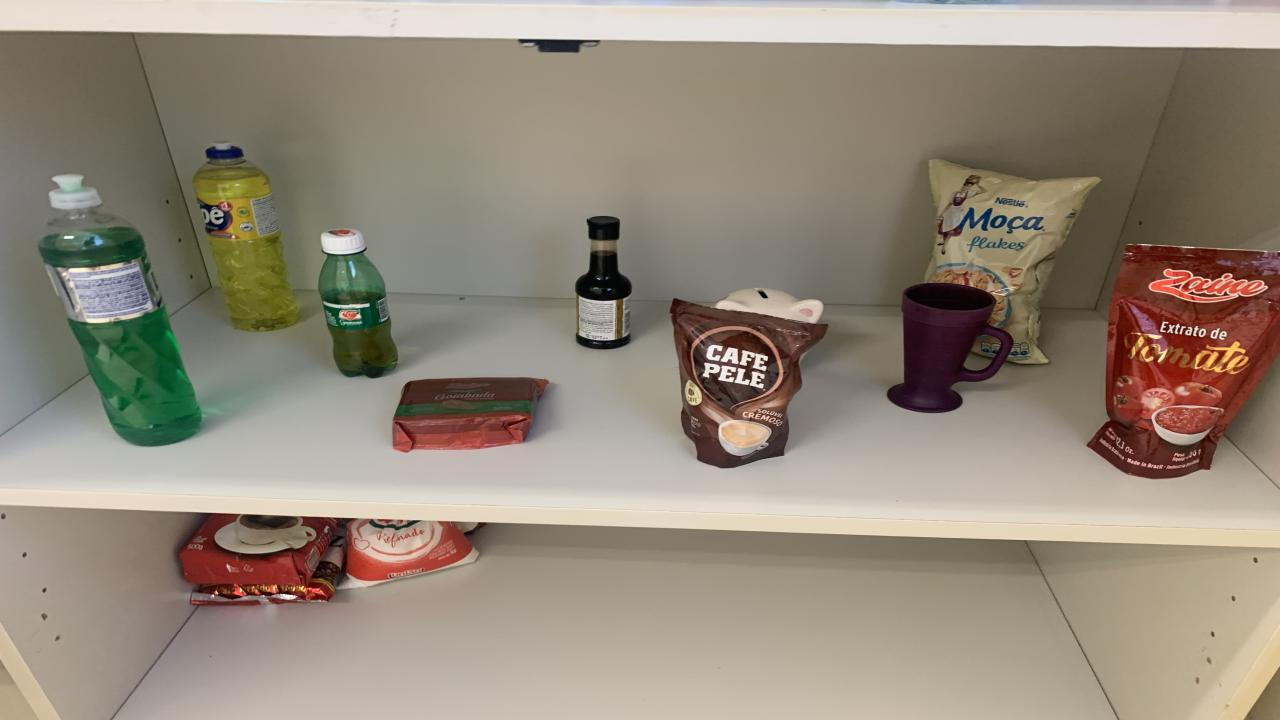Coffee-Pantry_Items: (670, 298, 828, 467)
Detergent-Cleanup_Items: (38, 174, 202, 446), (192, 142, 298, 332)
English_Sauce-Pantry_Items: (575, 216, 632, 349)
Flakes-Snacks: (925, 159, 1098, 364), (972, 332, 1000, 356)
Guarana-Drinks: (318, 229, 398, 377)
Guava-Snacks: (392, 377, 548, 452)
Pig_Safe-Miscellaneous: (715, 289, 822, 322)
Tomato_Sauce-Pantry_Items: (1088, 244, 1280, 478)
